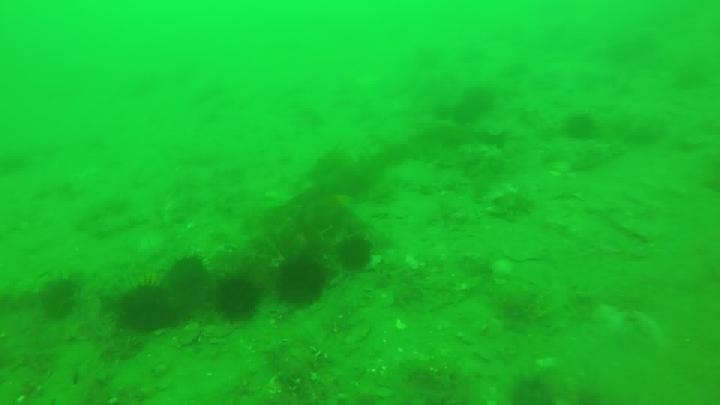echinus: (115, 280, 175, 335), (277, 252, 327, 306), (218, 271, 263, 320), (36, 275, 76, 319), (337, 234, 374, 272), (171, 257, 205, 296), (459, 85, 497, 119), (567, 114, 598, 142)
scallop: (491, 261, 513, 280)
